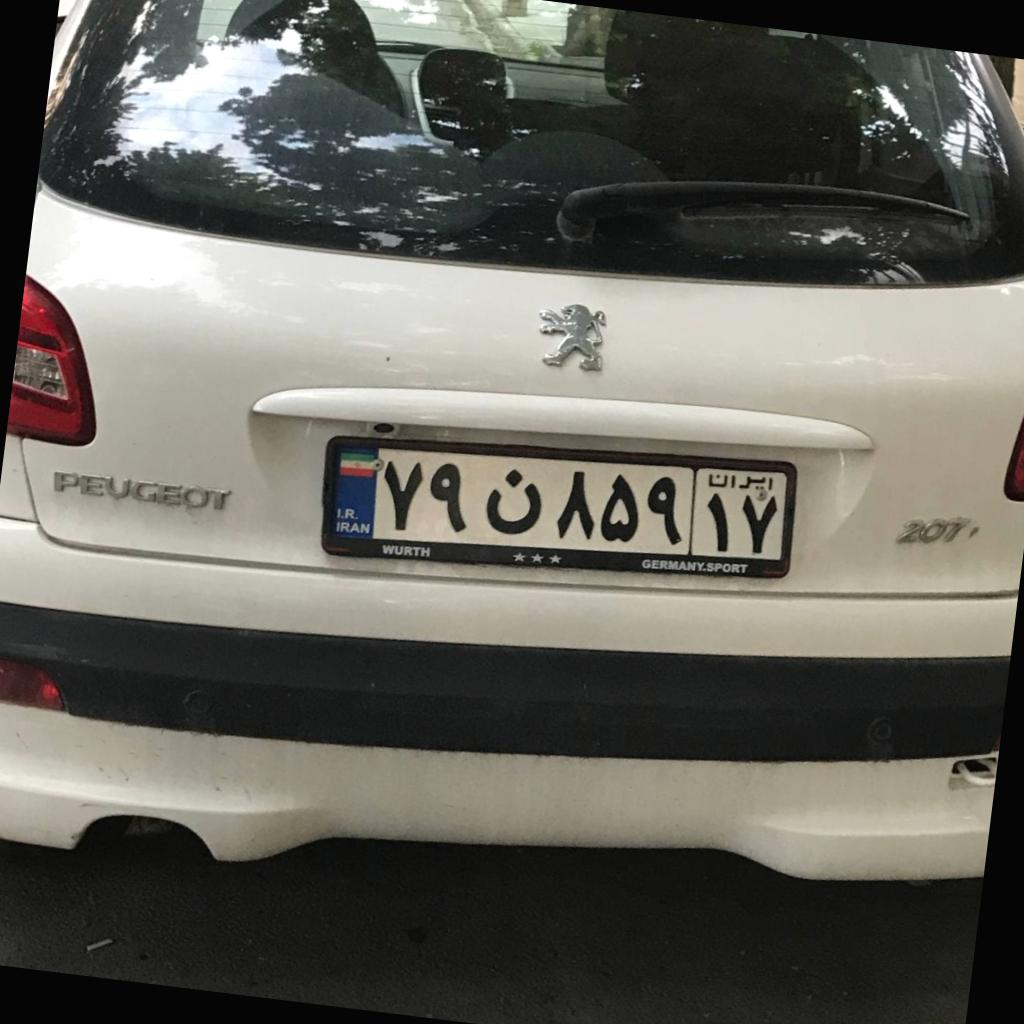Plates: (332, 446, 785, 558)
